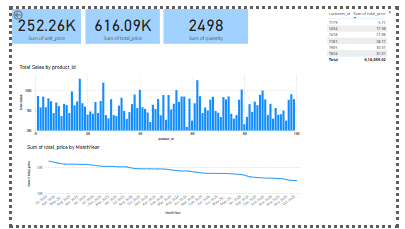

What the dashboard file says about the page in this screenshot:
{"tool":"powerbi","page":{"name":"Page 1","canvas":[1280,720],"ordinal":0},"visuals":[{"type":"card","fields":{"Values":["Sum(sales_db sales.quantity)"]},"box":[506,0,282,116],"z":0},{"type":"card","fields":{"Values":["Sum(sales_db sales.total_price)"]},"box":[244,0,248,116],"z":1000},{"type":"card","fields":{"Values":["Sum(sales_db sales.unit_price)"]},"box":[0,0,230,116],"z":2000},{"type":"columnChart","fields":{"Category":["sales_db sales.product_id"],"Y":["Sum(sales_db sales.total_price)"]},"box":[20,182.5,943.8,258.8],"z":3000},{"type":"lineChart","fields":{"Y":["Sum(sales_db sales.total_price)"],"Category":["sales_db sales.MonthYear"]},"box":[44.3,451.4,920,238.6],"z":4000},{"type":"tableEx","fields":{"Values":["sales_db sales.customer_id","Sum(sales_db sales.total_price)"]},"box":[1044,1,224,182],"z":4001},{"type":"actionButton","box":[0,0,100,40],"z":4002}]}

Visuals, with their boxes in screenshot pixels (x1, y1, x2, y2), scaled from the page's 1280x720 canvas onto the 405x229 screenshot:
card - Sum(sales_db sales.quantity): [160, 0, 249, 37]
card - Sum(sales_db sales.total_price): [77, 0, 156, 37]
card - Sum(sales_db sales.unit_price): [0, 0, 73, 37]
columnChart - sales_db sales.product_id x Sum(sales_db sales.total_price): [6, 58, 305, 140]
lineChart - Sum(sales_db sales.total_price) x sales_db sales.MonthYear: [14, 144, 305, 219]
tableEx - sales_db sales.customer_id x Sum(sales_db sales.total_price): [330, 0, 401, 58]
actionButton: [0, 0, 32, 13]
